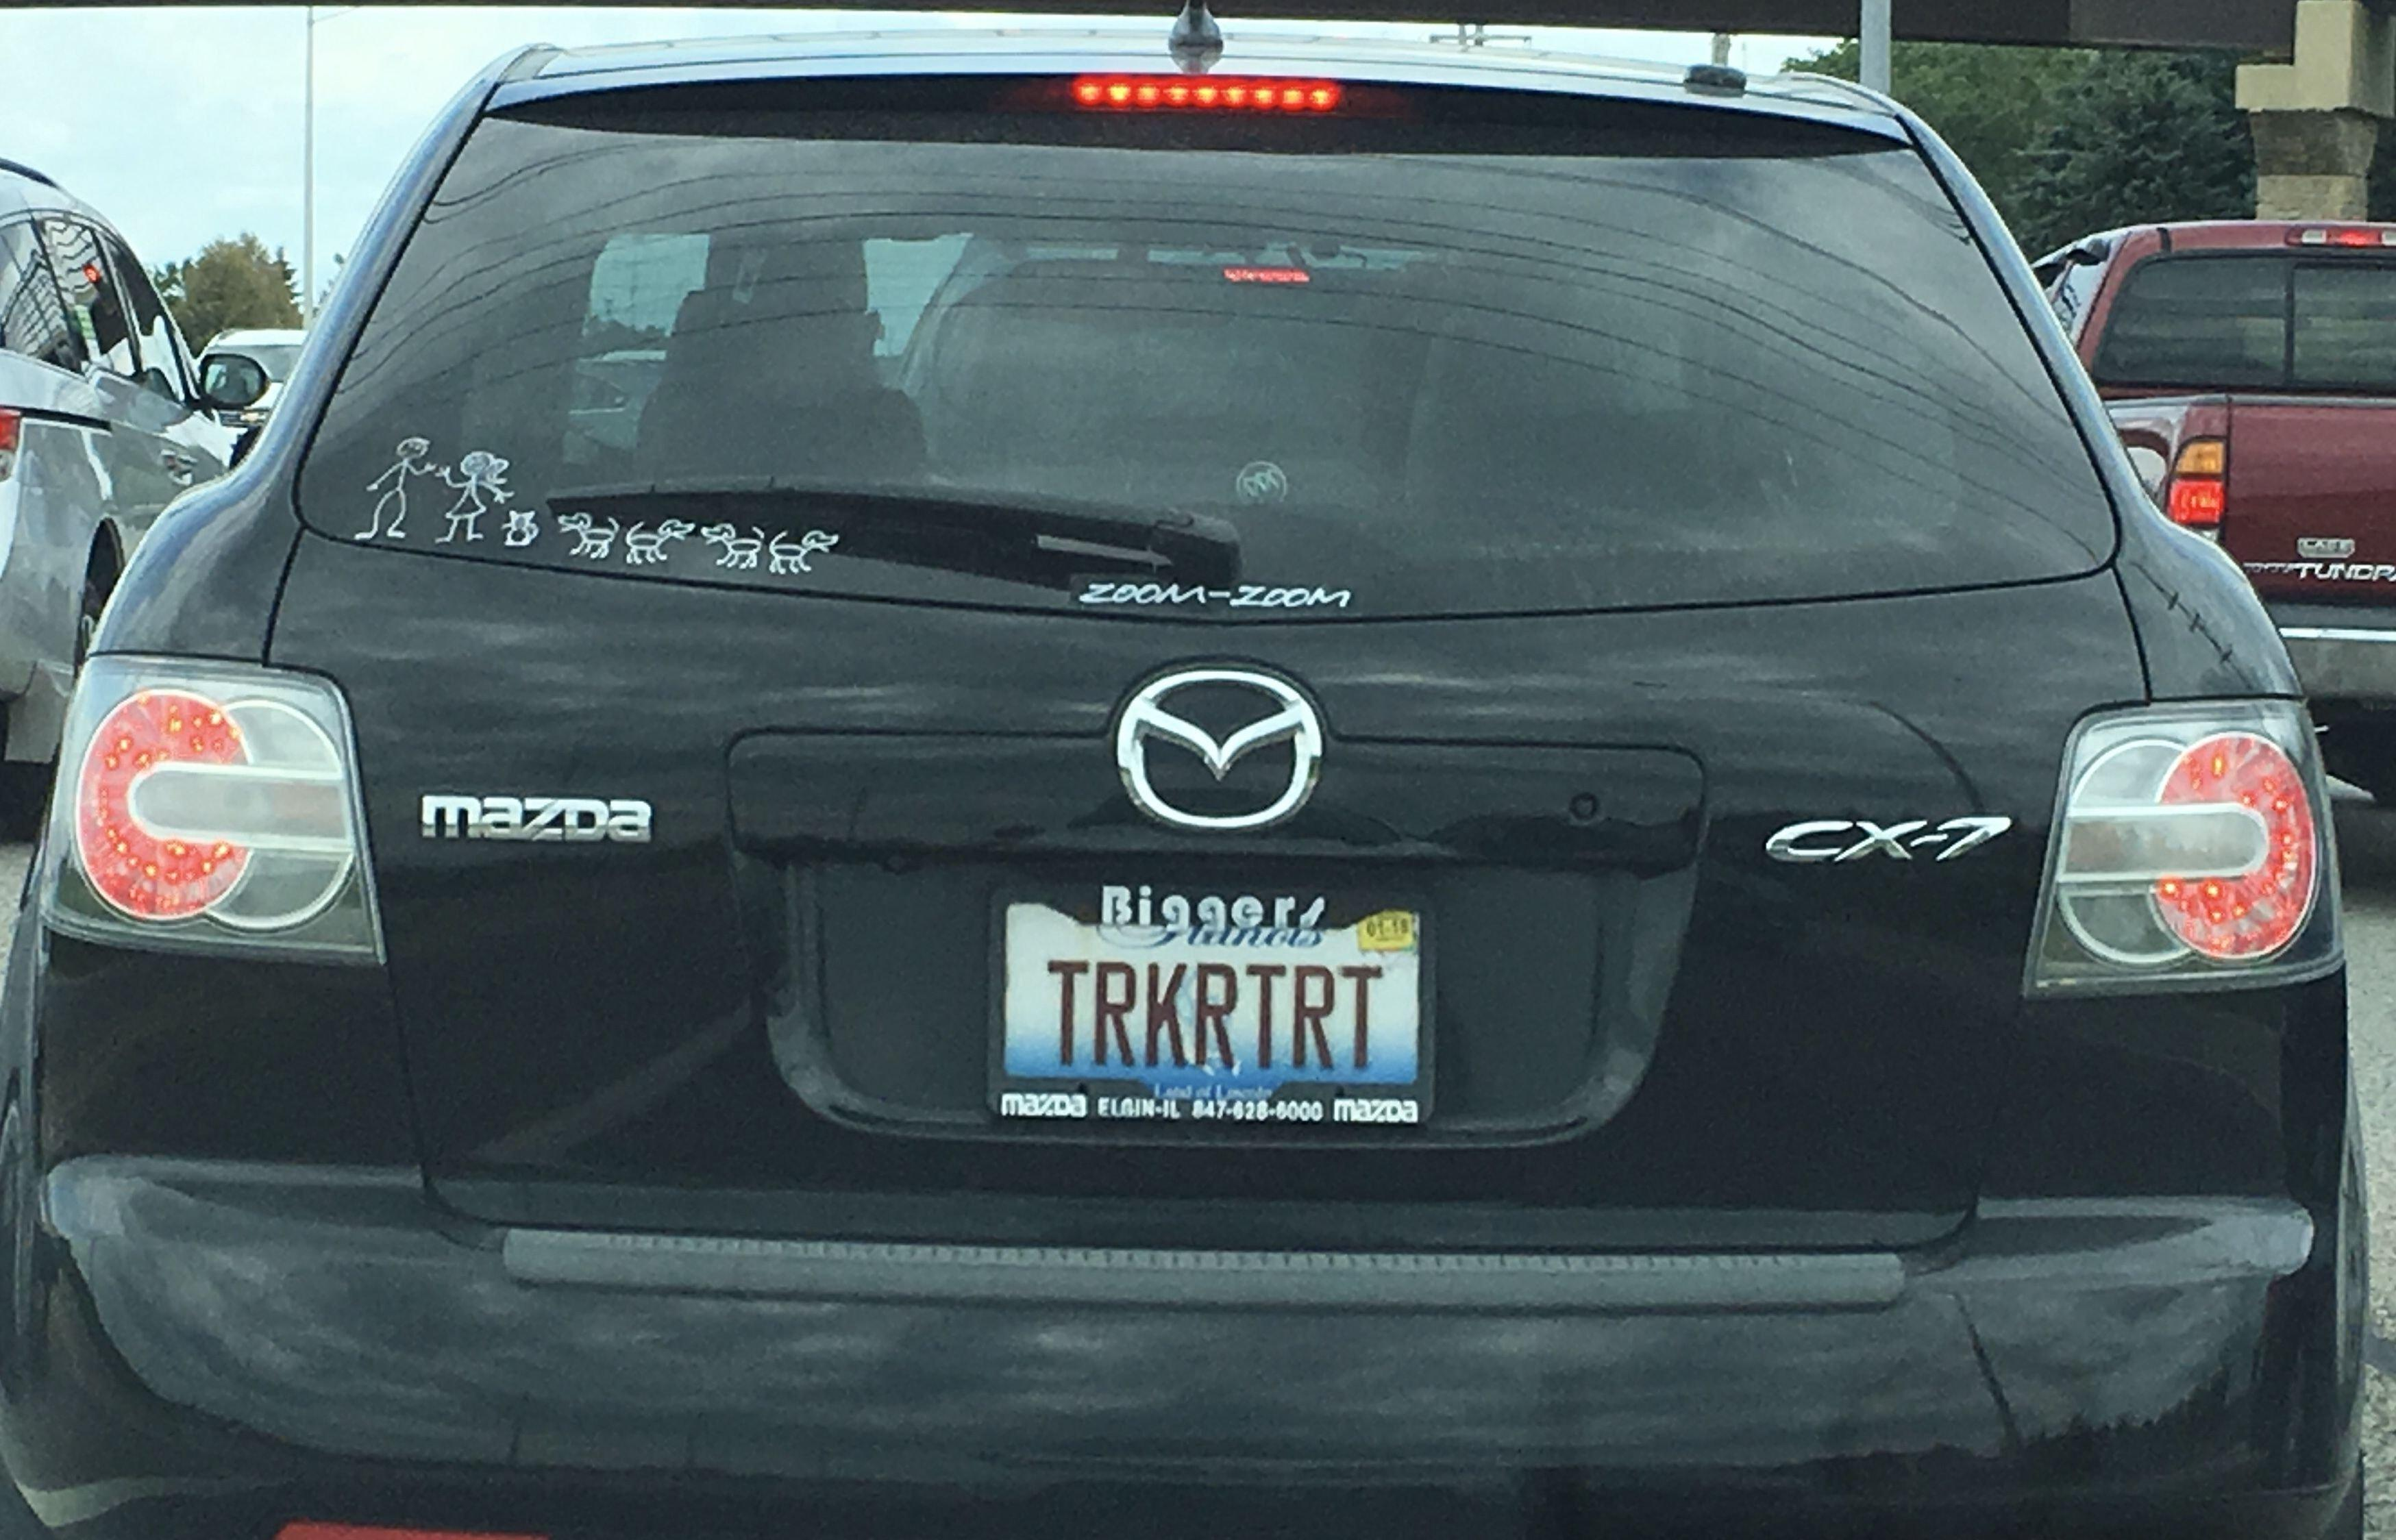Liscence Plate: (1002, 896, 1431, 1132)
